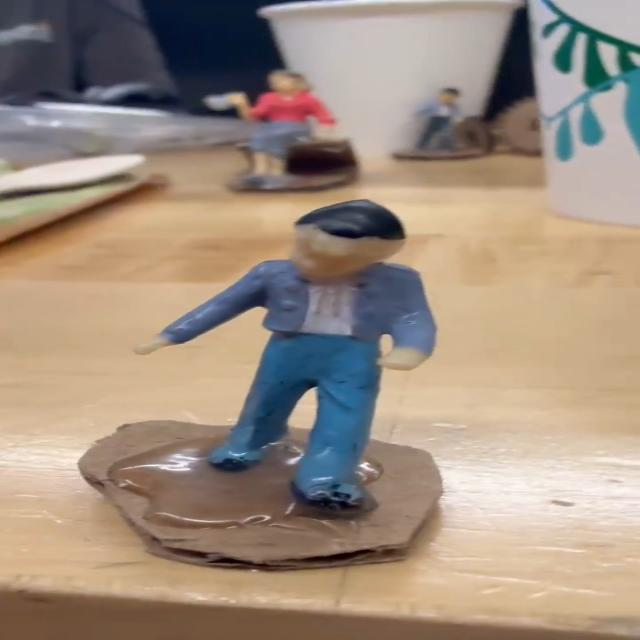Authorized: (89, 181, 531, 537)
